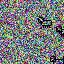sheep: (38, 17, 53, 29), (50, 56, 64, 64), (55, 26, 64, 36)
